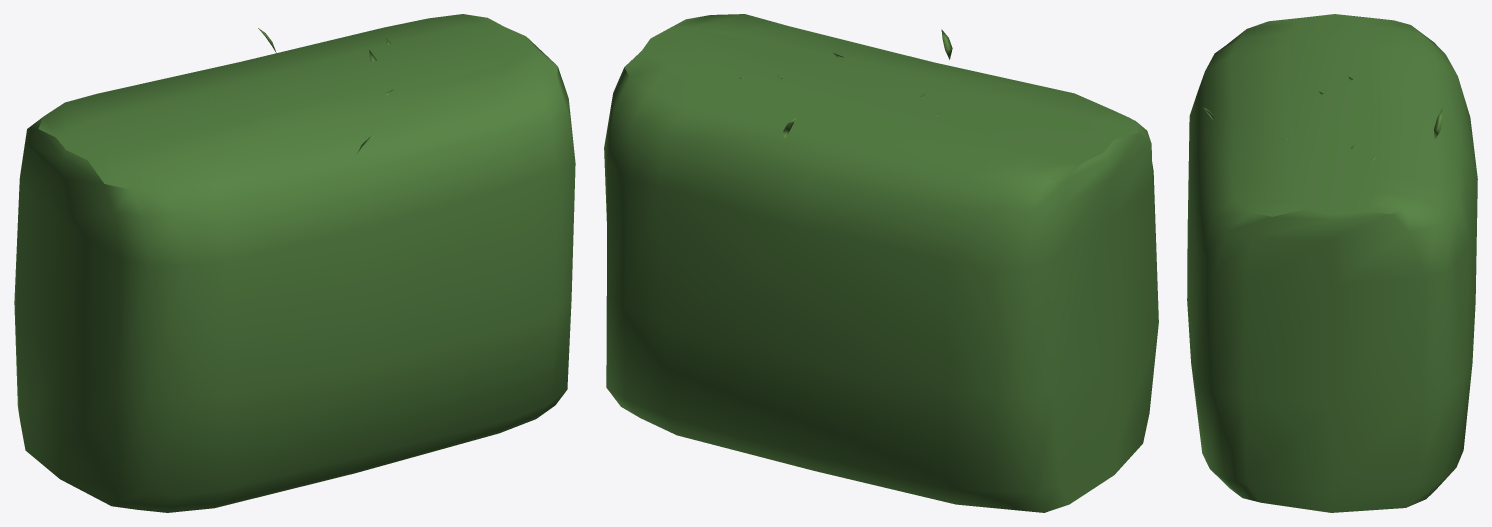
Rendered from hedge.far.glb.
3 views of the same model, side by side, from view 1: azimuth 30°, elevation 25°; view 2: azimuth 150°, elevation 25°; view 3: azimuth 270°, elevation 25° (orthographic). The views are drawn at different scales.
Visible parts, largest first — view 1: hedge; view 2: hedge; view 3: hedge.
Boxes of the visible parts, bbox=[...] form: hedge: bbox=[14, 14, 575, 512]; hedge: bbox=[604, 14, 1158, 512]; hedge: bbox=[1187, 14, 1477, 512].
Bounding box in the file's own units: 1.55 × 1.15 × 0.92.
